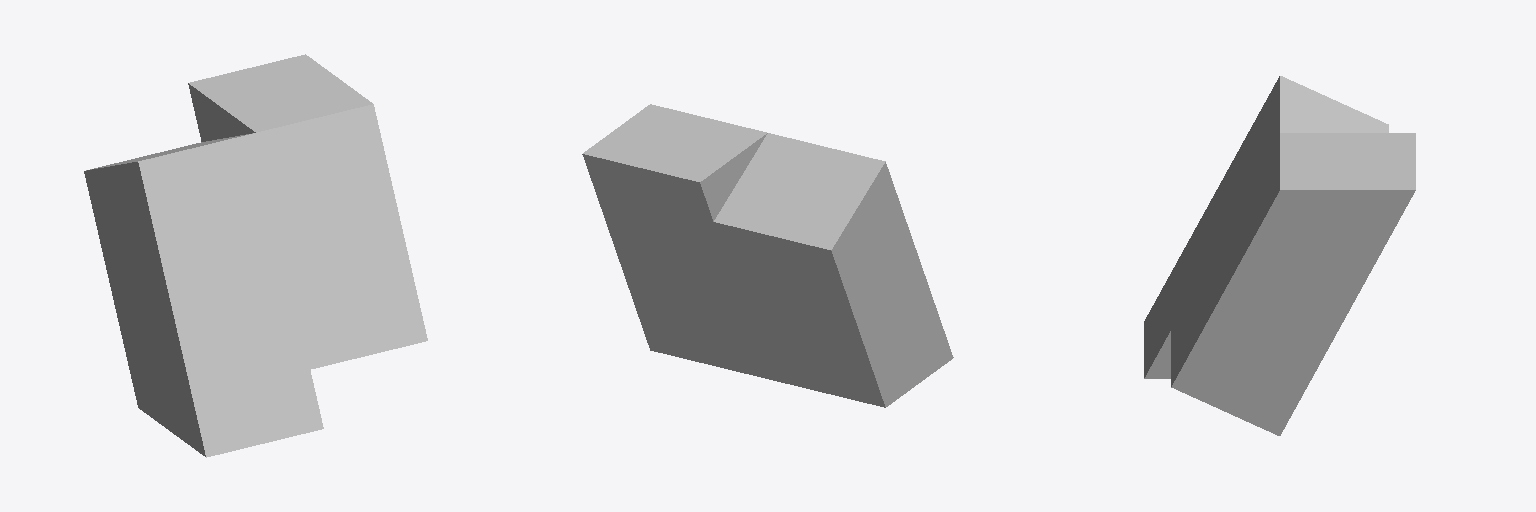
Rendered from skuz.obj.
3 views of the same model, side by side, from view 1: azimuth 30°, elevation 25°; view 2: azimuth 150°, elevation 25°; view 3: azimuth 270°, elevation 25° (orthographic).
Bounding box in the file's own units: 1 × 1 × 1.